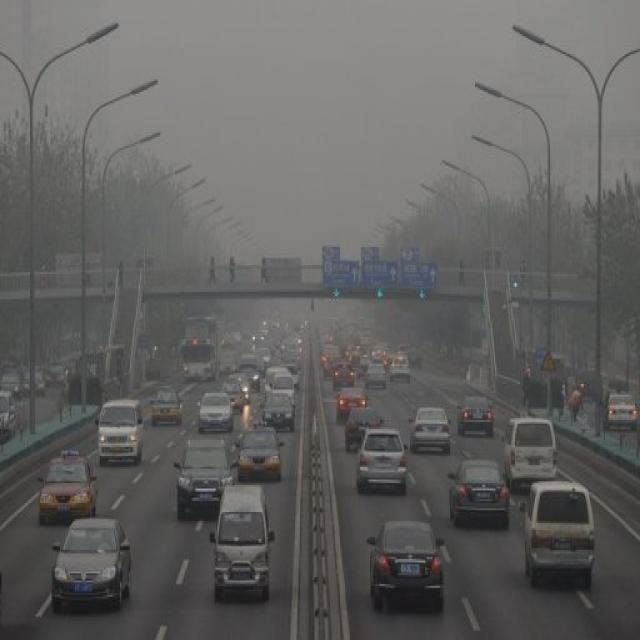car: (521, 478, 595, 591), (50, 516, 132, 609), (367, 518, 445, 611), (212, 490, 272, 600), (502, 413, 558, 492), (450, 454, 508, 526), (36, 456, 96, 523), (355, 426, 406, 492), (174, 460, 228, 517), (98, 397, 142, 463), (235, 426, 281, 480), (410, 406, 451, 450), (195, 391, 231, 433), (146, 384, 182, 425), (344, 406, 378, 449), (456, 398, 494, 434), (604, 391, 636, 427), (14, 357, 45, 393), (335, 388, 369, 418), (262, 393, 292, 425), (321, 348, 344, 379), (24, 366, 45, 398), (1, 372, 24, 401), (225, 381, 241, 418), (235, 366, 249, 404), (364, 366, 386, 388), (390, 355, 409, 379), (246, 361, 260, 391)
truck: (178, 312, 218, 378)
